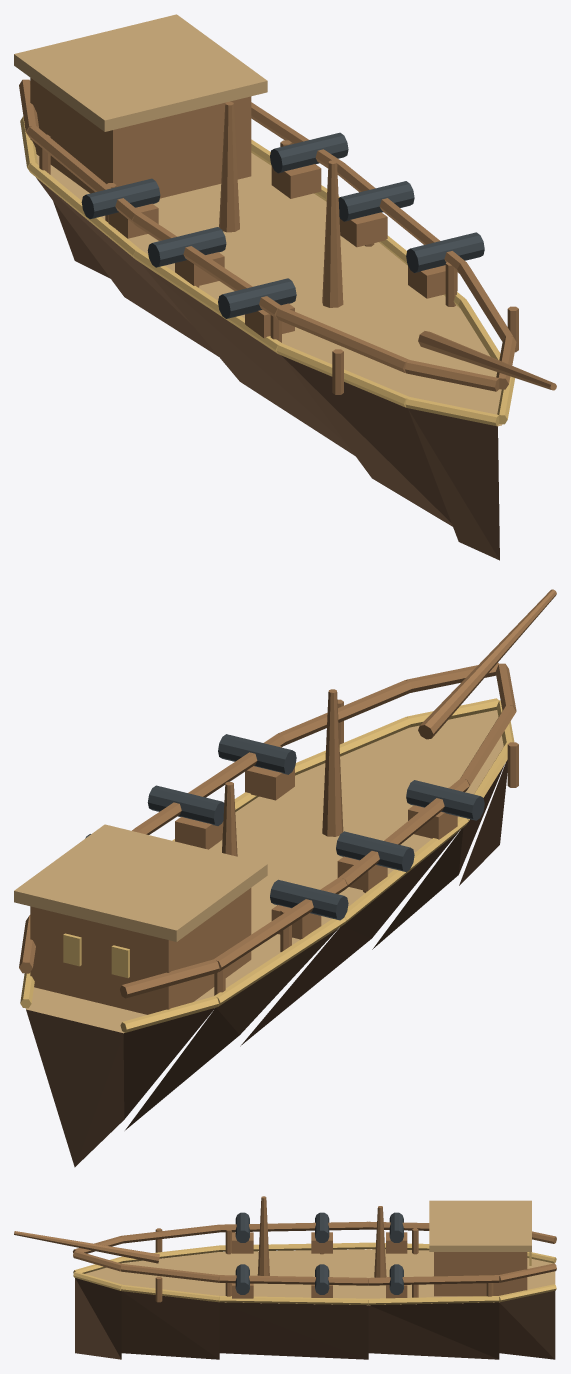
The model's file is wreck.glb.
The picture shows the model from 3 angles, top to bottom: view 1: azimuth 30°, elevation 25°; view 2: azimuth 150°, elevation 25°; view 3: azimuth 270°, elevation 25°; orthographic projection. The views are drawn at different scales.
Parts seen in each view (by area): view 1: wreck; view 2: wreck; view 3: wreck.
Part boxes in pixels (x1,y1,x2,y2): wreck: [14, 14, 556, 560]; wreck: [14, 589, 556, 1167]; wreck: [14, 1196, 556, 1359].
Bounding box in the file's own units: 2.31 × 2.5 × 7.57.
